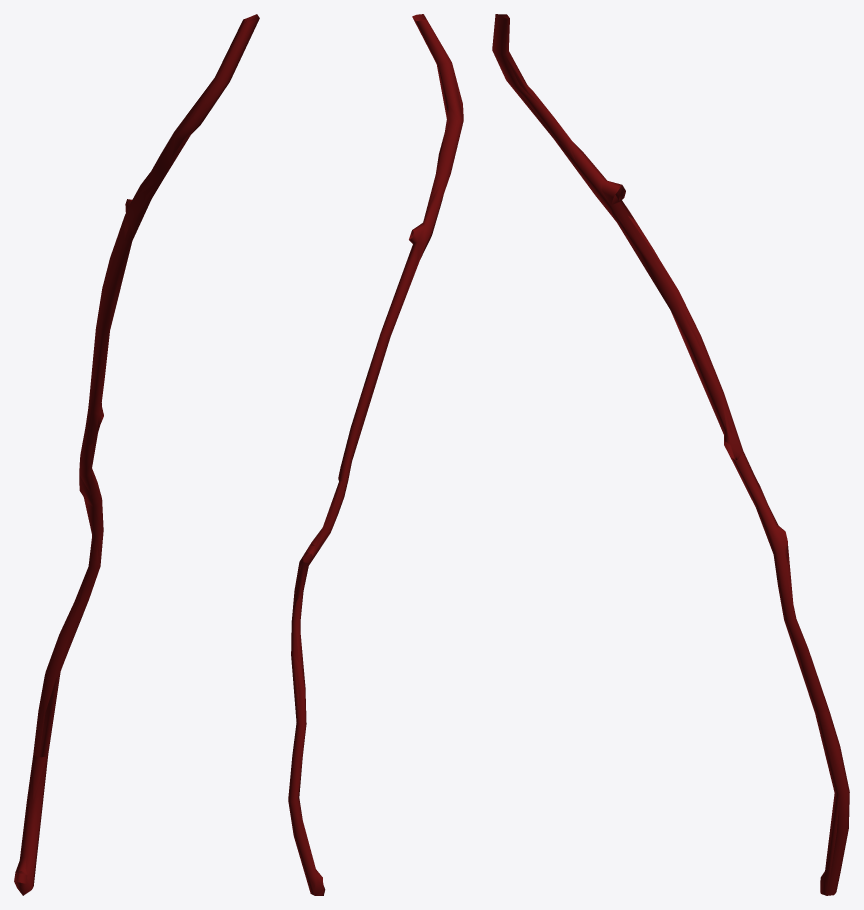
File: R mediana.fbx
3 renders of one model, left to right at view 1: azimuth 30°, elevation 25°; view 2: azimuth 150°, elevation 25°; view 3: azimuth 270°, elevation 25°, orthographic. The views are drawn at different scales.
Visible parts, largest first — view 1: R mediana low, R mediana; view 2: R mediana, R mediana low; view 3: R mediana, R mediana low.
Part boxes in pixels (left/top/right/bottom): R mediana low: left=14, top=15, right=255, bottom=894; R mediana: left=14, top=14, right=259, bottom=895; R mediana: left=288, top=14, right=463, bottom=895; R mediana low: left=288, top=14, right=463, bottom=895; R mediana: left=492, top=14, right=849, bottom=895; R mediana low: left=496, top=14, right=849, bottom=894.
Bounding box in the file's own units: 2.08 × 25.26 × 9.06.
